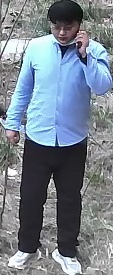phone: (47, 9, 110, 104)
